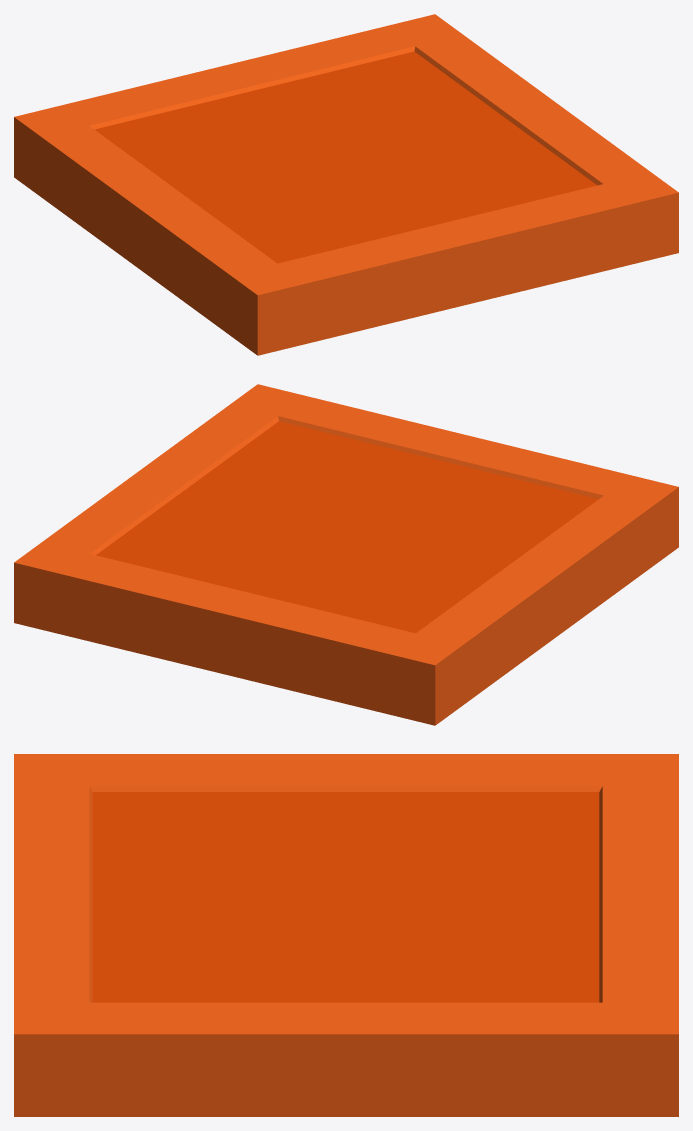
Rendered from SM_Moving_Platform_1m_01.fbx.
3 renders of one model, top to bottom at view 1: azimuth 30°, elevation 25°; view 2: azimuth 150°, elevation 25°; view 3: azimuth 270°, elevation 25°, orthographic. The views are drawn at different scales.
Parts seen in each view (by area): view 1: pCube476; view 2: pCube476; view 3: pCube476.
Boxes of the visible parts, x1,y1,x2,y2 form: pCube476: (14,14,678,355); pCube476: (14,384,678,725); pCube476: (14,754,678,1116).
Bounding box in the file's own units: 97.55 × 13.38 × 97.79.
1 material, 1 textured.
